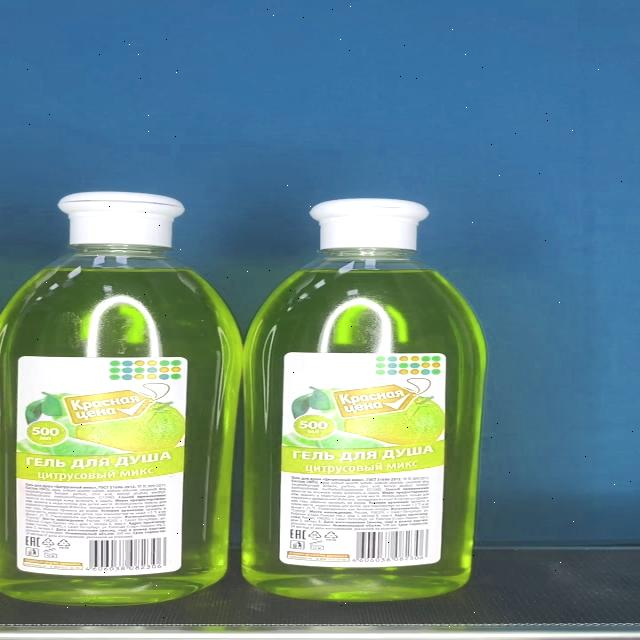Bottle: (0, 191, 241, 606), (242, 198, 484, 601)
Cap: (56, 191, 185, 247), (307, 199, 429, 251)
